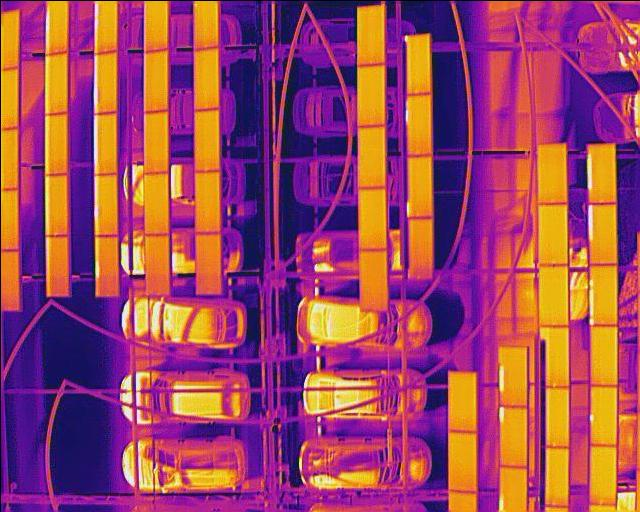Cell: (588, 385, 617, 445)
No-Anomaly: (446, 368, 477, 432), (357, 186, 386, 252), (539, 263, 569, 326), (358, 248, 387, 312), (539, 202, 568, 265), (448, 430, 477, 493), (356, 123, 384, 187), (590, 324, 619, 385), (537, 142, 566, 201), (142, 110, 169, 173), (357, 62, 384, 125), (144, 171, 170, 236), (194, 106, 220, 171), (588, 444, 616, 503), (144, 233, 171, 294), (357, 3, 384, 64), (196, 231, 222, 294), (194, 171, 221, 231), (407, 218, 432, 281), (144, 48, 169, 111), (45, 173, 69, 234), (545, 385, 569, 446), (405, 34, 430, 92), (545, 444, 568, 507), (193, 48, 217, 108), (44, 112, 67, 174), (544, 326, 568, 385), (45, 235, 68, 296), (45, 53, 68, 114), (144, 0, 167, 50), (195, 0, 218, 48)
Unclassified: (588, 263, 617, 326), (588, 204, 618, 263), (586, 143, 616, 202), (499, 343, 527, 406), (404, 93, 432, 156), (499, 404, 526, 468), (406, 155, 433, 218), (93, 232, 118, 295), (93, 172, 118, 234), (93, 112, 117, 173), (94, 49, 115, 112), (45, 0, 68, 53), (94, 0, 114, 52)
